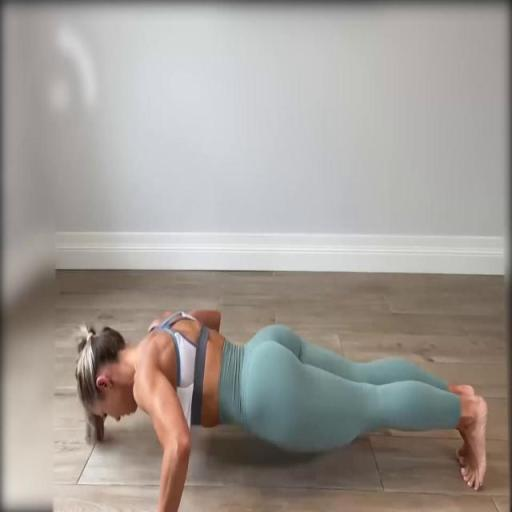Normal_BrenchPress: (74, 309, 489, 510)
